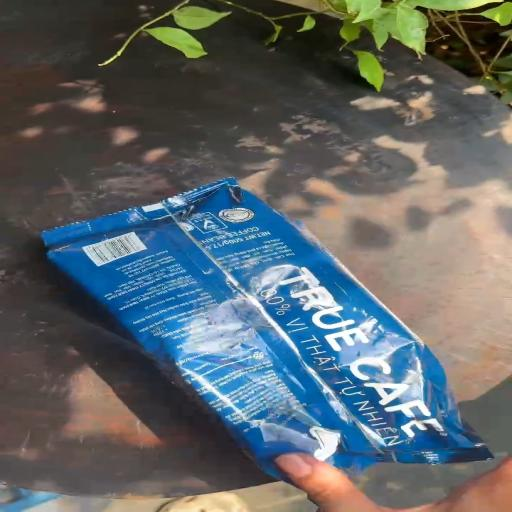cafe_hat: (42, 178, 492, 479)
